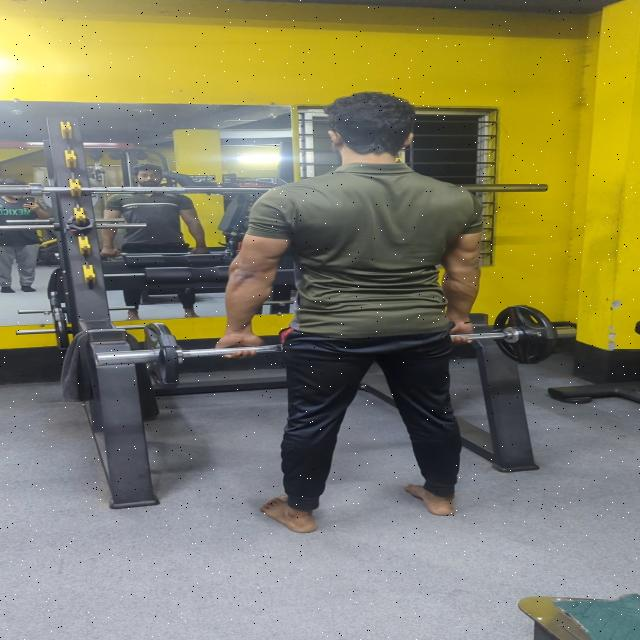Normal_Deadlifts: (168, 69, 549, 542)
